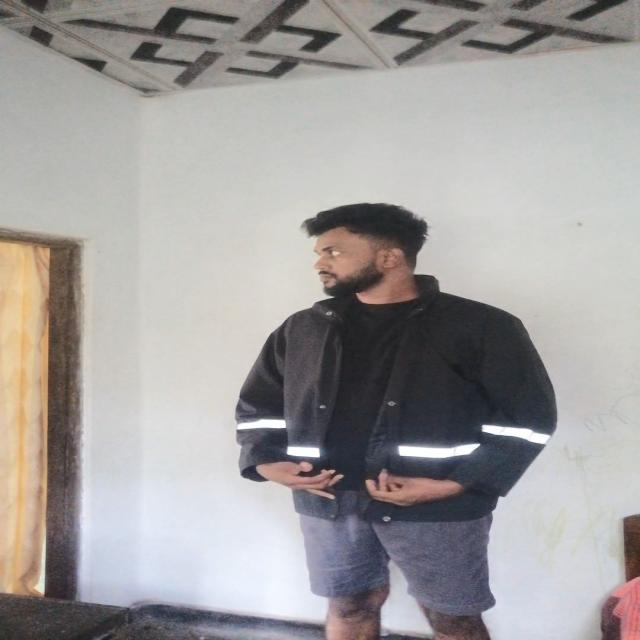Jacket_Wearer: (217, 282, 585, 518)
